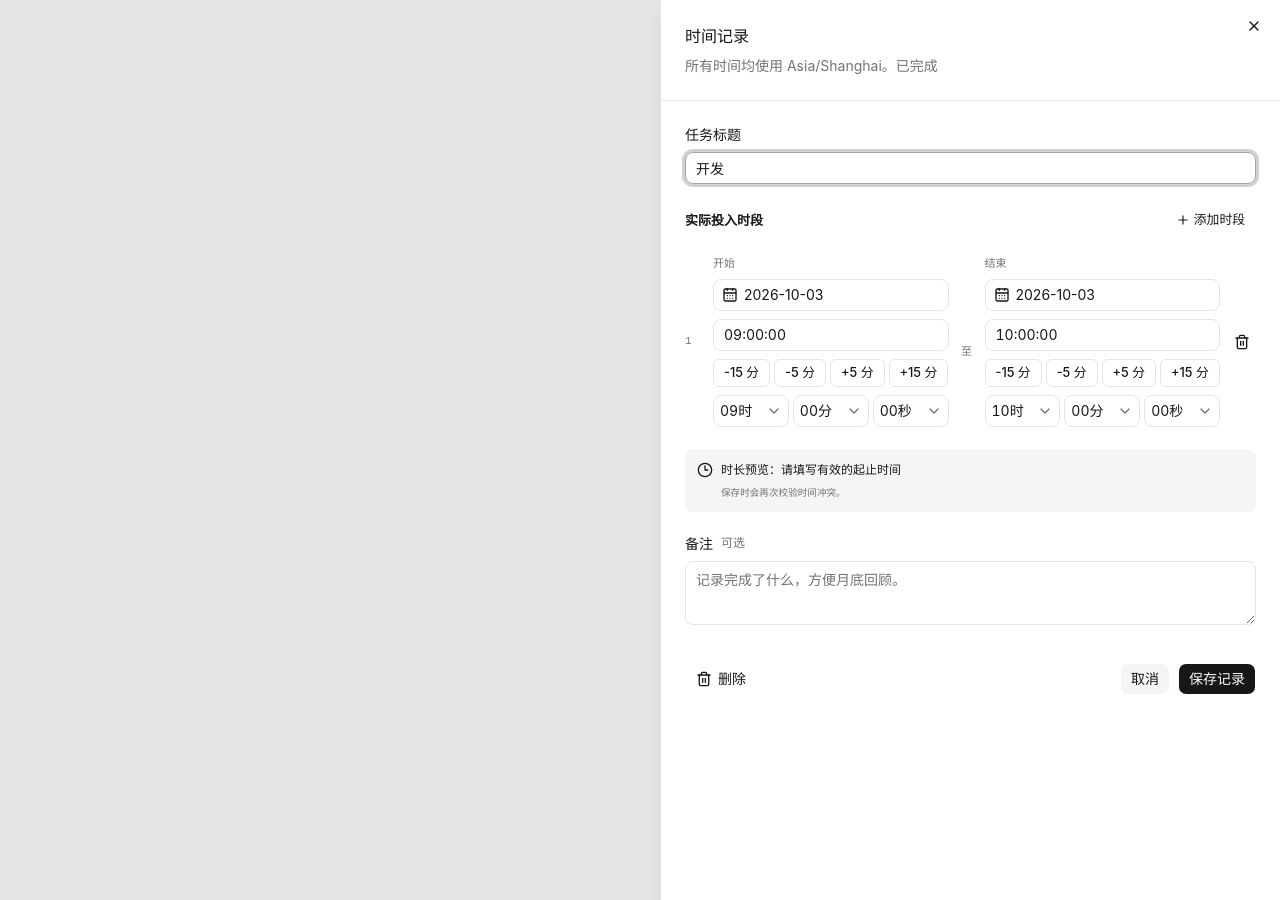
locates a conflict and lets the user inspect it without replacing the draft
Step 1. Replace the text in the field labelled "任务标题" with "保留当前草稿" → x=970, y=168, box left=685, top=152, right=1256, bottom=184
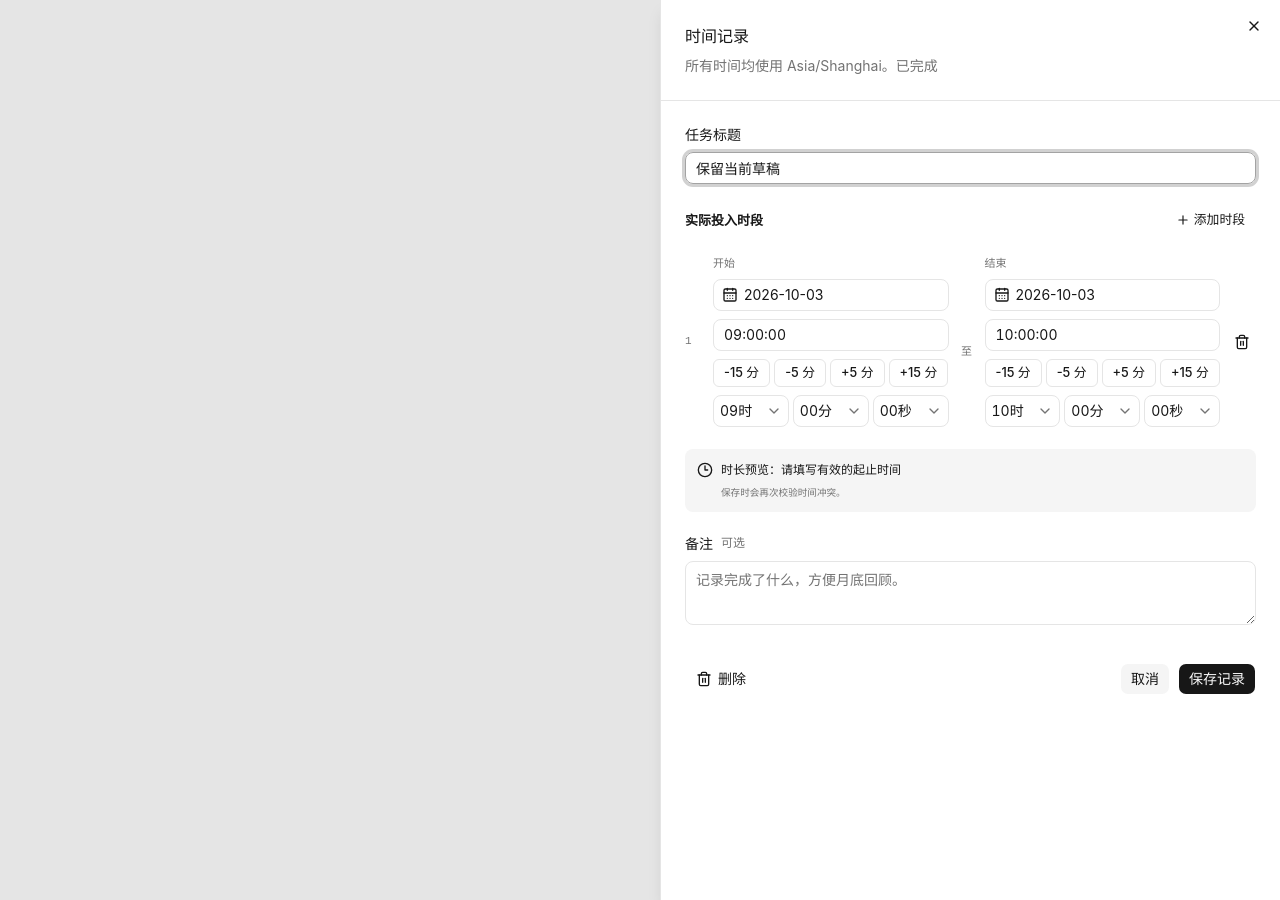
Step 2. Click the button "保存记录" → x=1217, y=679, box left=1178, top=663, right=1256, bottom=695
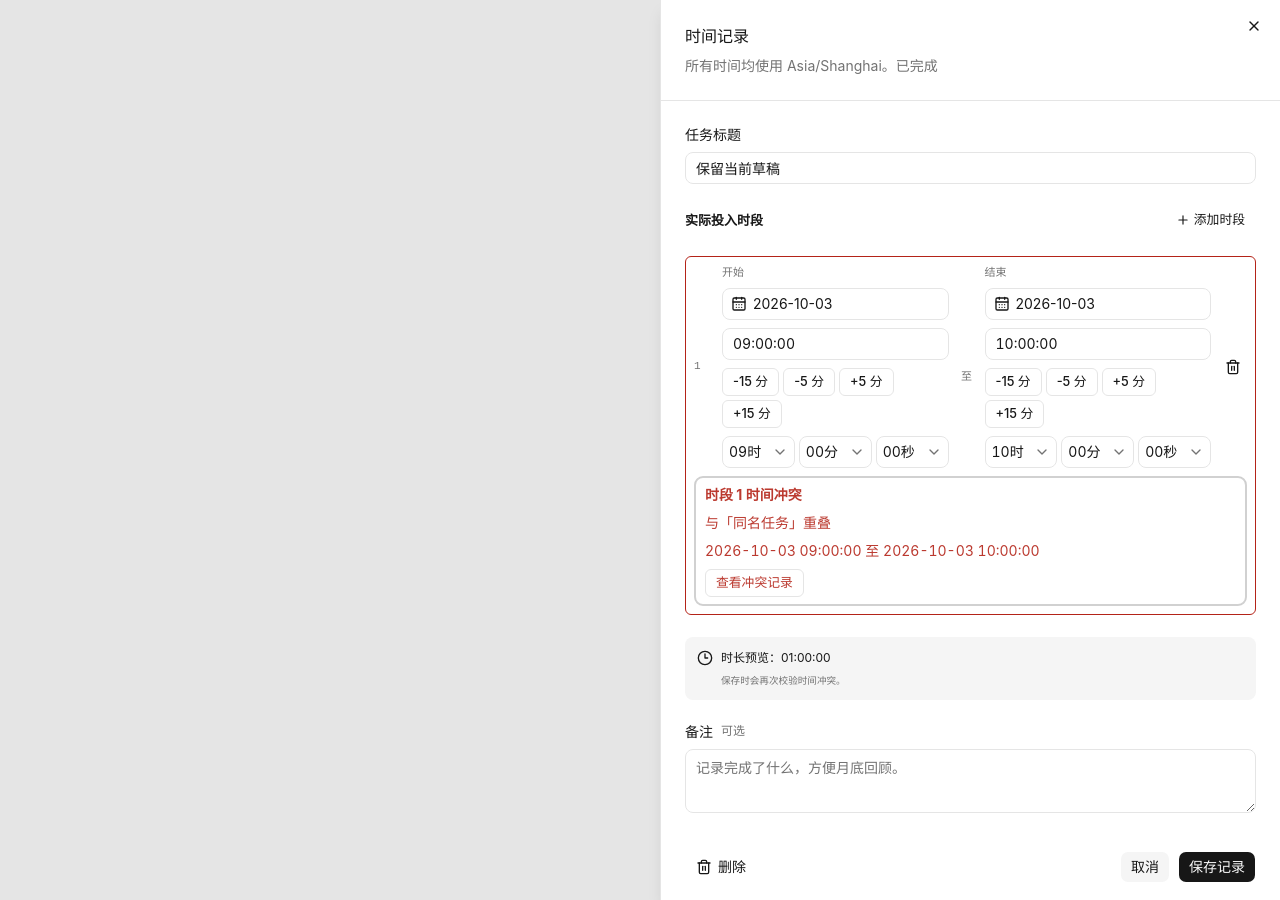
Expected: the message "时段 1 时间冲突" shows "同名任务", left=705, top=514, right=831, bottom=531
Expected: the message "时段 1 时间冲突" shows "2026-10-03 09:00:00", left=705, top=542, right=862, bottom=559
Step 3. Click the button "查看冲突记录" → x=754, y=583, box left=705, top=569, right=804, bottom=597
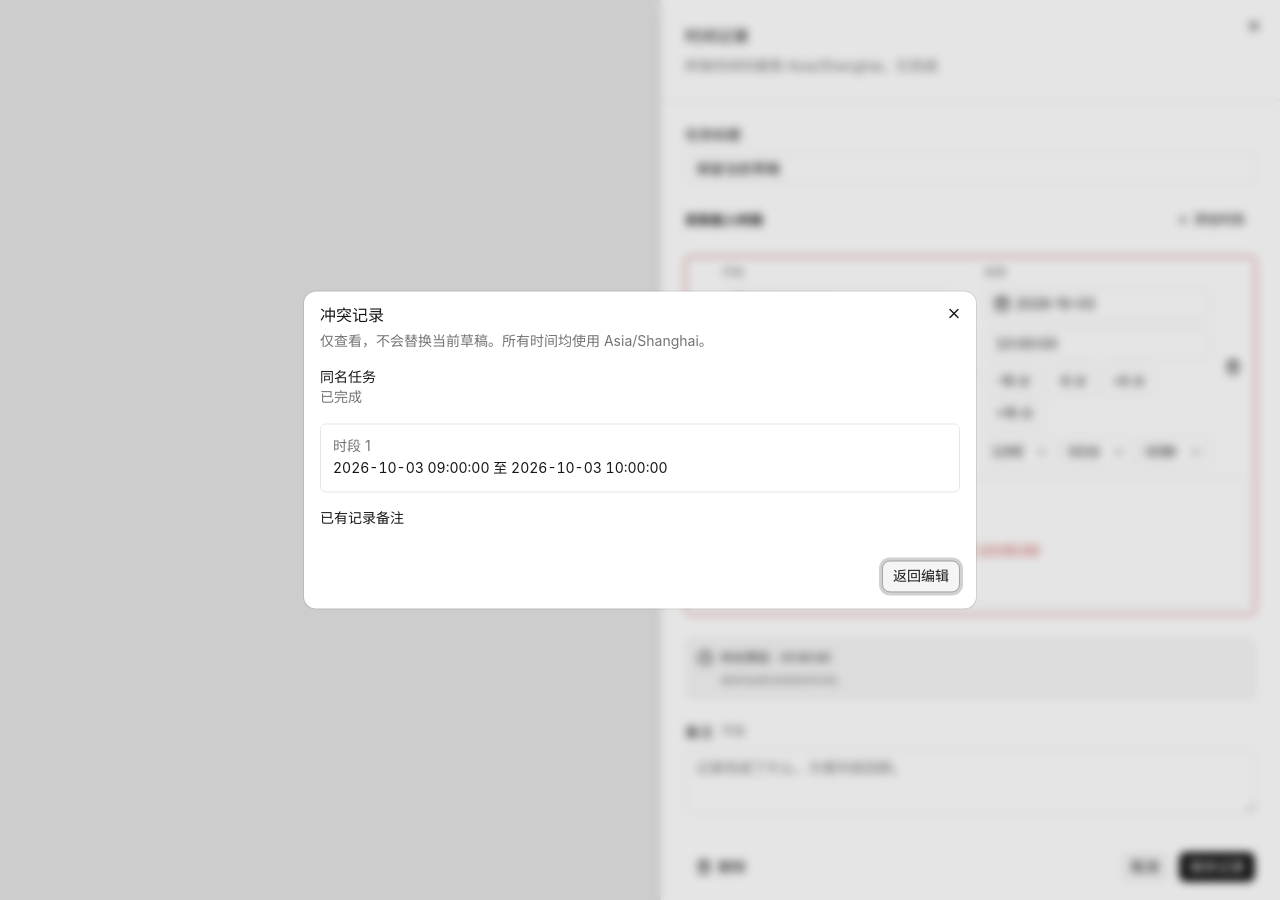
Expected: the text "已有记录备注" is shown, left=320, top=510, right=404, bottom=526
Step 4. Click the button "返回编辑" → x=921, y=576, box left=882, top=560, right=960, bottom=592
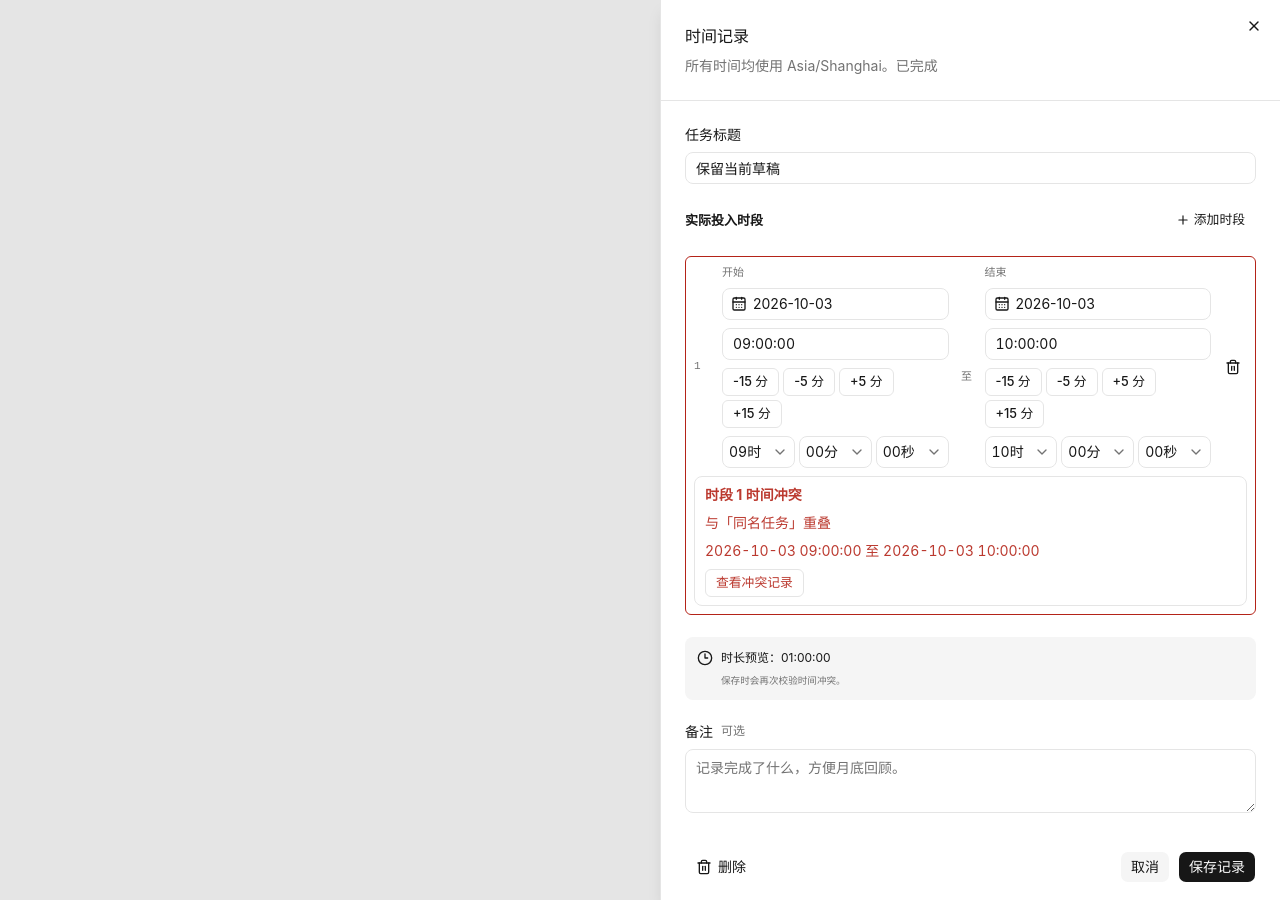
Step 5. Click the button named "移除时段 1" → x=1233, y=367, box left=1219, top=353, right=1247, bottom=381
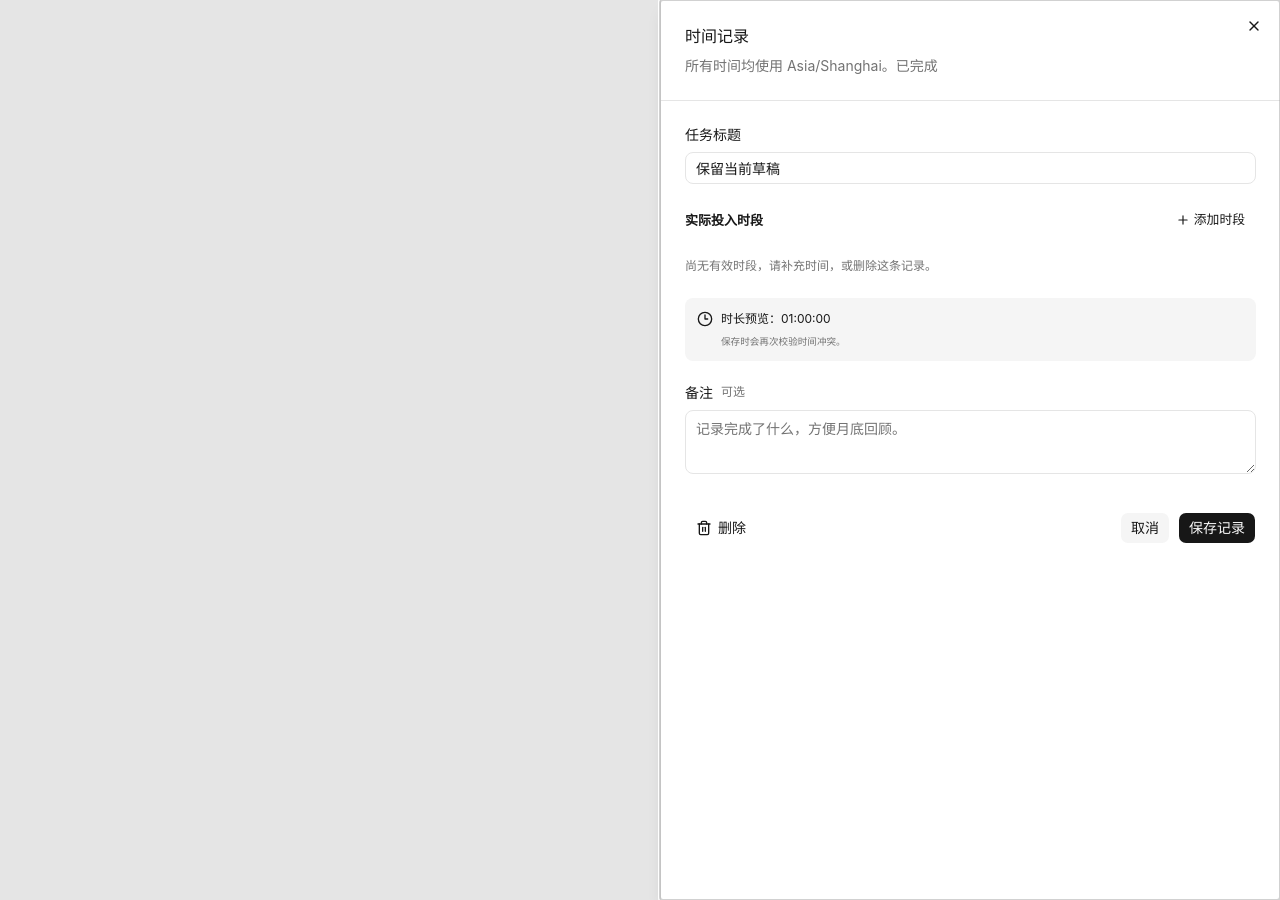
Expected: the text "时段 1 时间冲突" is gone
